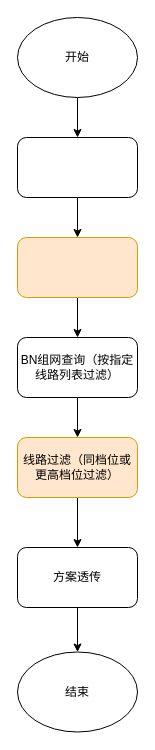
This 155x750 diagram has some shape labels left out. The shapes that lost their labels are listed below. From the top down, each one's centre as x and y in pixels, then its label:
At point 77,167: "指定线路+档位".
At point 77,267: "指定线路调运费模板获取可承运线路列表".
